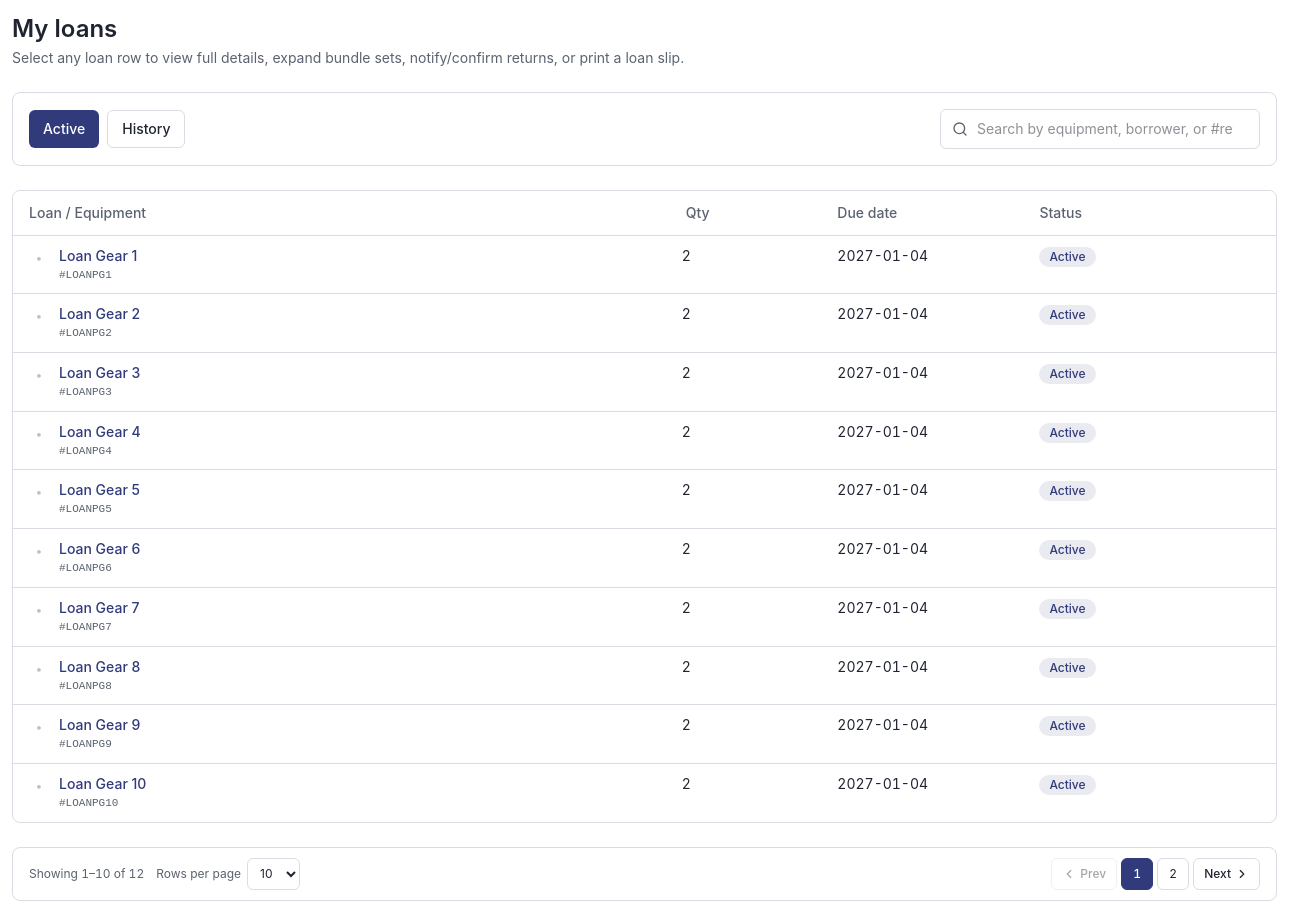
F-05 checkout and active-loan UI › paginates LoansPage grouped rows (default 10) and navigates between pages
Expected: the text "Showing 1–10 of 12" is shown, [29,866,144,882]
Expected: the text "Loan Gear 11" is not shown
Click the button with aria-label "Next page" at x=1227, y=874, box [1193,858,1260,890]
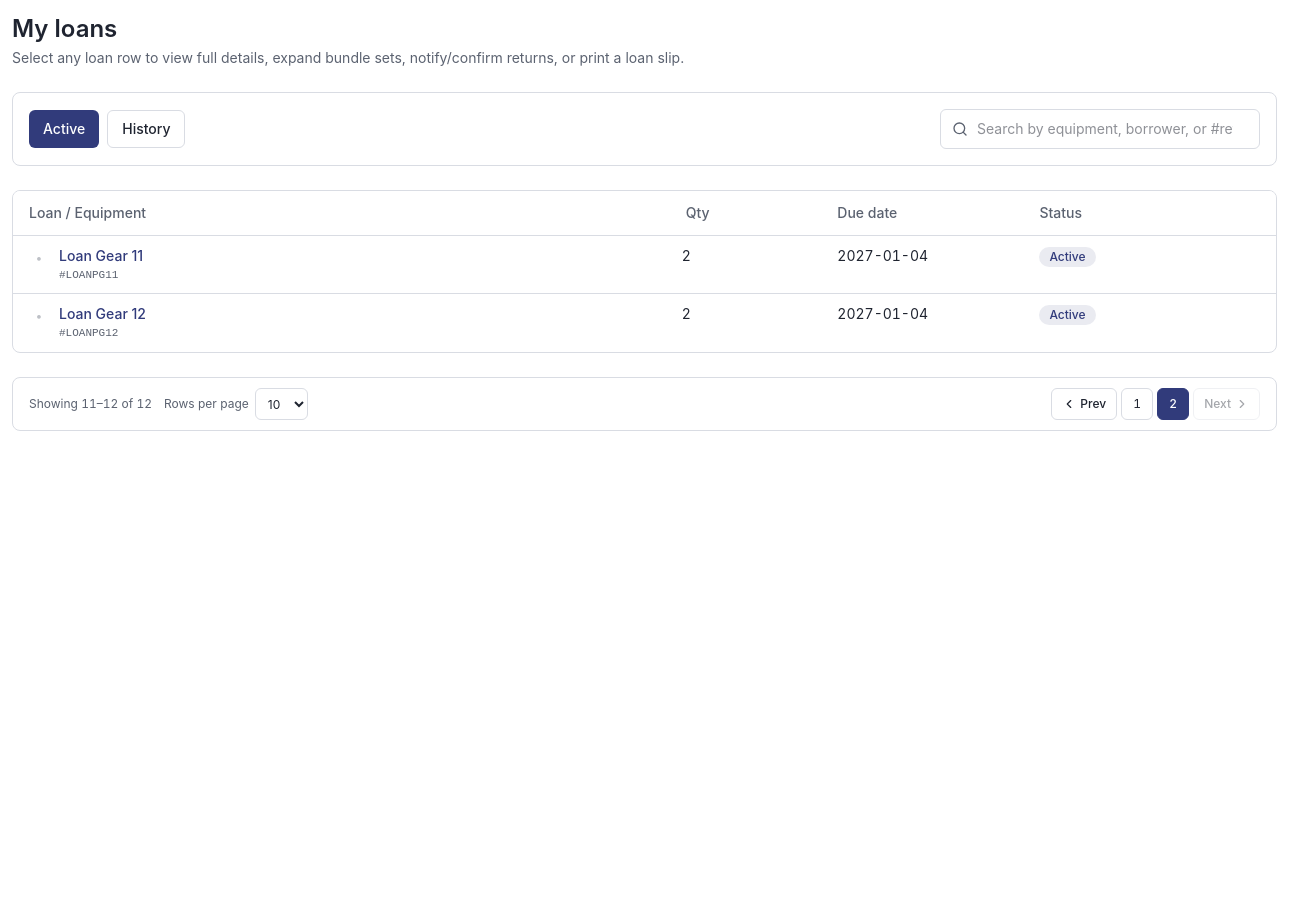
Result: the text "Showing 11–12 of 12" is shown at [29,396,152,412]
